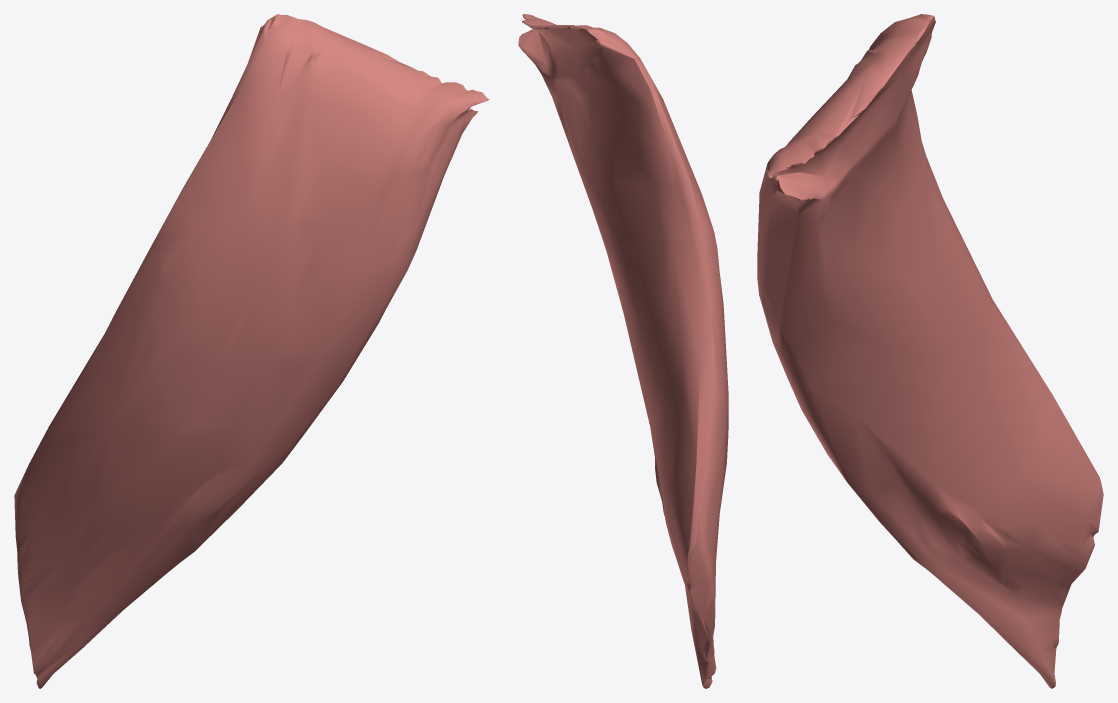
File: fma22450_fj1427.glb
The picture shows the model from 3 angles, left to right: view 1: azimuth 30°, elevation 25°; view 2: azimuth 150°, elevation 25°; view 3: azimuth 270°, elevation 25°; orthographic projection. The views are drawn at different scales.
Visible parts, largest first — view 1: FMA22450_FJ1427; view 2: FMA22450_FJ1427; view 3: FMA22450_FJ1427.
Boxes of the visible parts, x1,y1,x2,y2 form: FMA22450_FJ1427: [14, 14, 489, 688]; FMA22450_FJ1427: [518, 14, 728, 688]; FMA22450_FJ1427: [757, 14, 1103, 688].
Size of the model in its own units: 0.0758 by 0.1407 by 0.0568.
